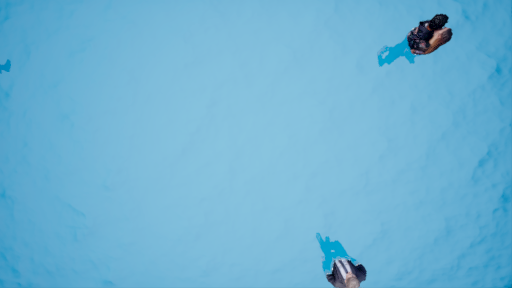person: (376, 8, 456, 71), (311, 225, 373, 288)
